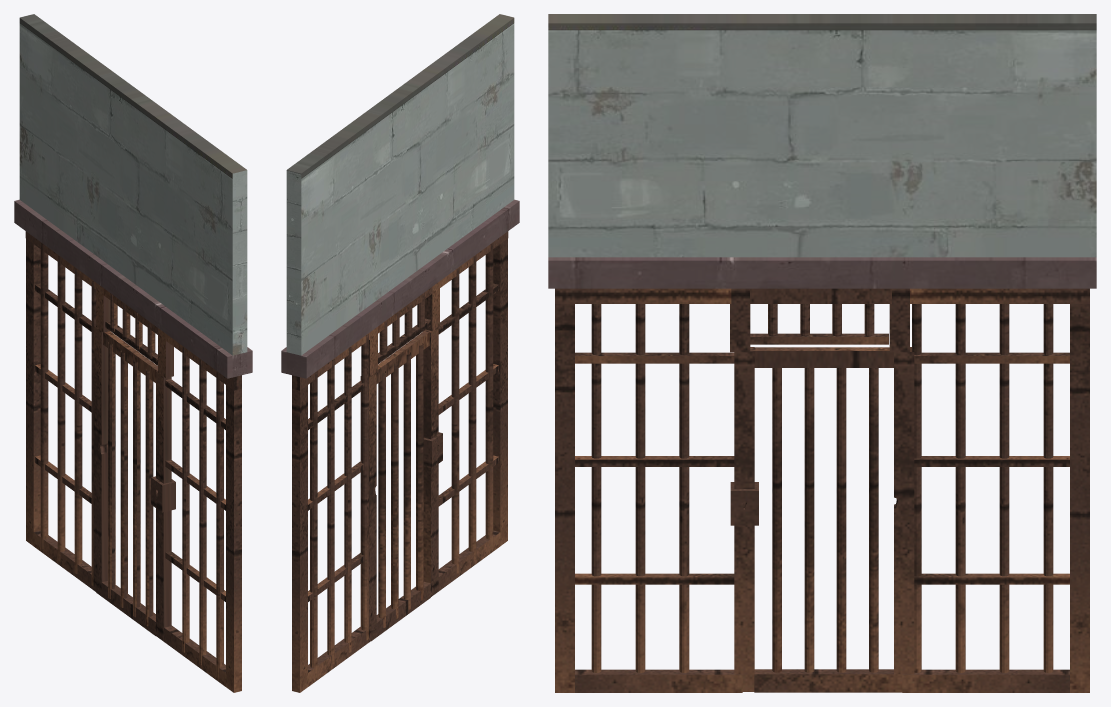
Rendered from PrisonDoor.fbx.
3 renders of one model, left to right at view 1: azimuth 30°, elevation 25°; view 2: azimuth 150°, elevation 25°; view 3: azimuth 270°, elevation 25°, orthographic. The views are drawn at different scales.
Parts seen in each view (by area): view 1: PrisonDoor, Door; view 2: PrisonDoor, Door; view 3: PrisonDoor, Door.
Part boxes in pixels (x1=…): PrisonDoor: x1=14, y1=14, x2=252, y2=692; Door: x1=93, y1=326, x2=175, y2=641; PrisonDoor: x1=281, y1=14, x2=519, y2=692; Door: x1=360, y1=327, x2=442, y2=642; PrisonDoor: x1=548, y1=14, x2=1096, y2=692; Door: x1=730, y1=347, x2=914, y2=692.
Size of the model in its own units: 0.4076 by 8.05 by 5.96.
